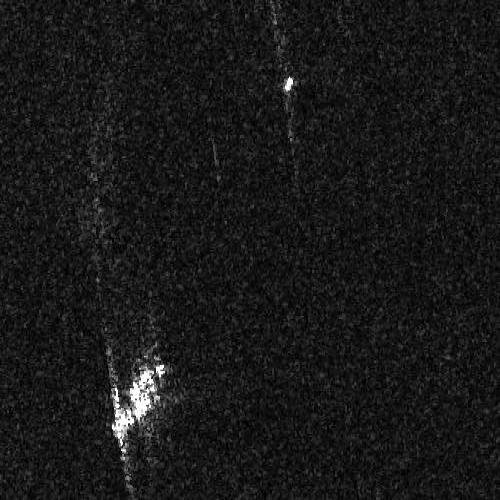ship: (110, 361, 166, 441), (283, 75, 295, 93)
